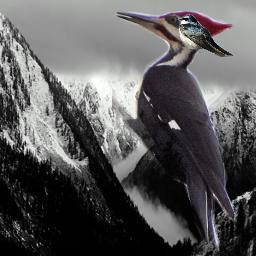Swallow: (178, 14, 233, 57)
Woodpecker: (112, 11, 237, 251)
